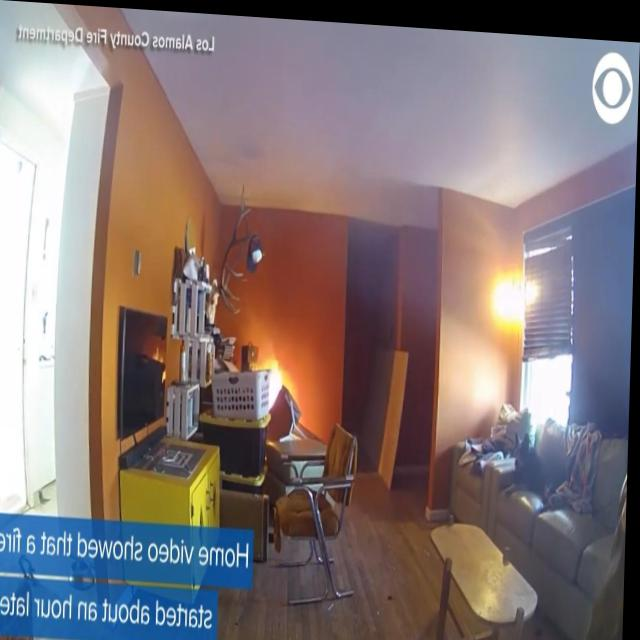fire: (267, 346, 290, 408)
